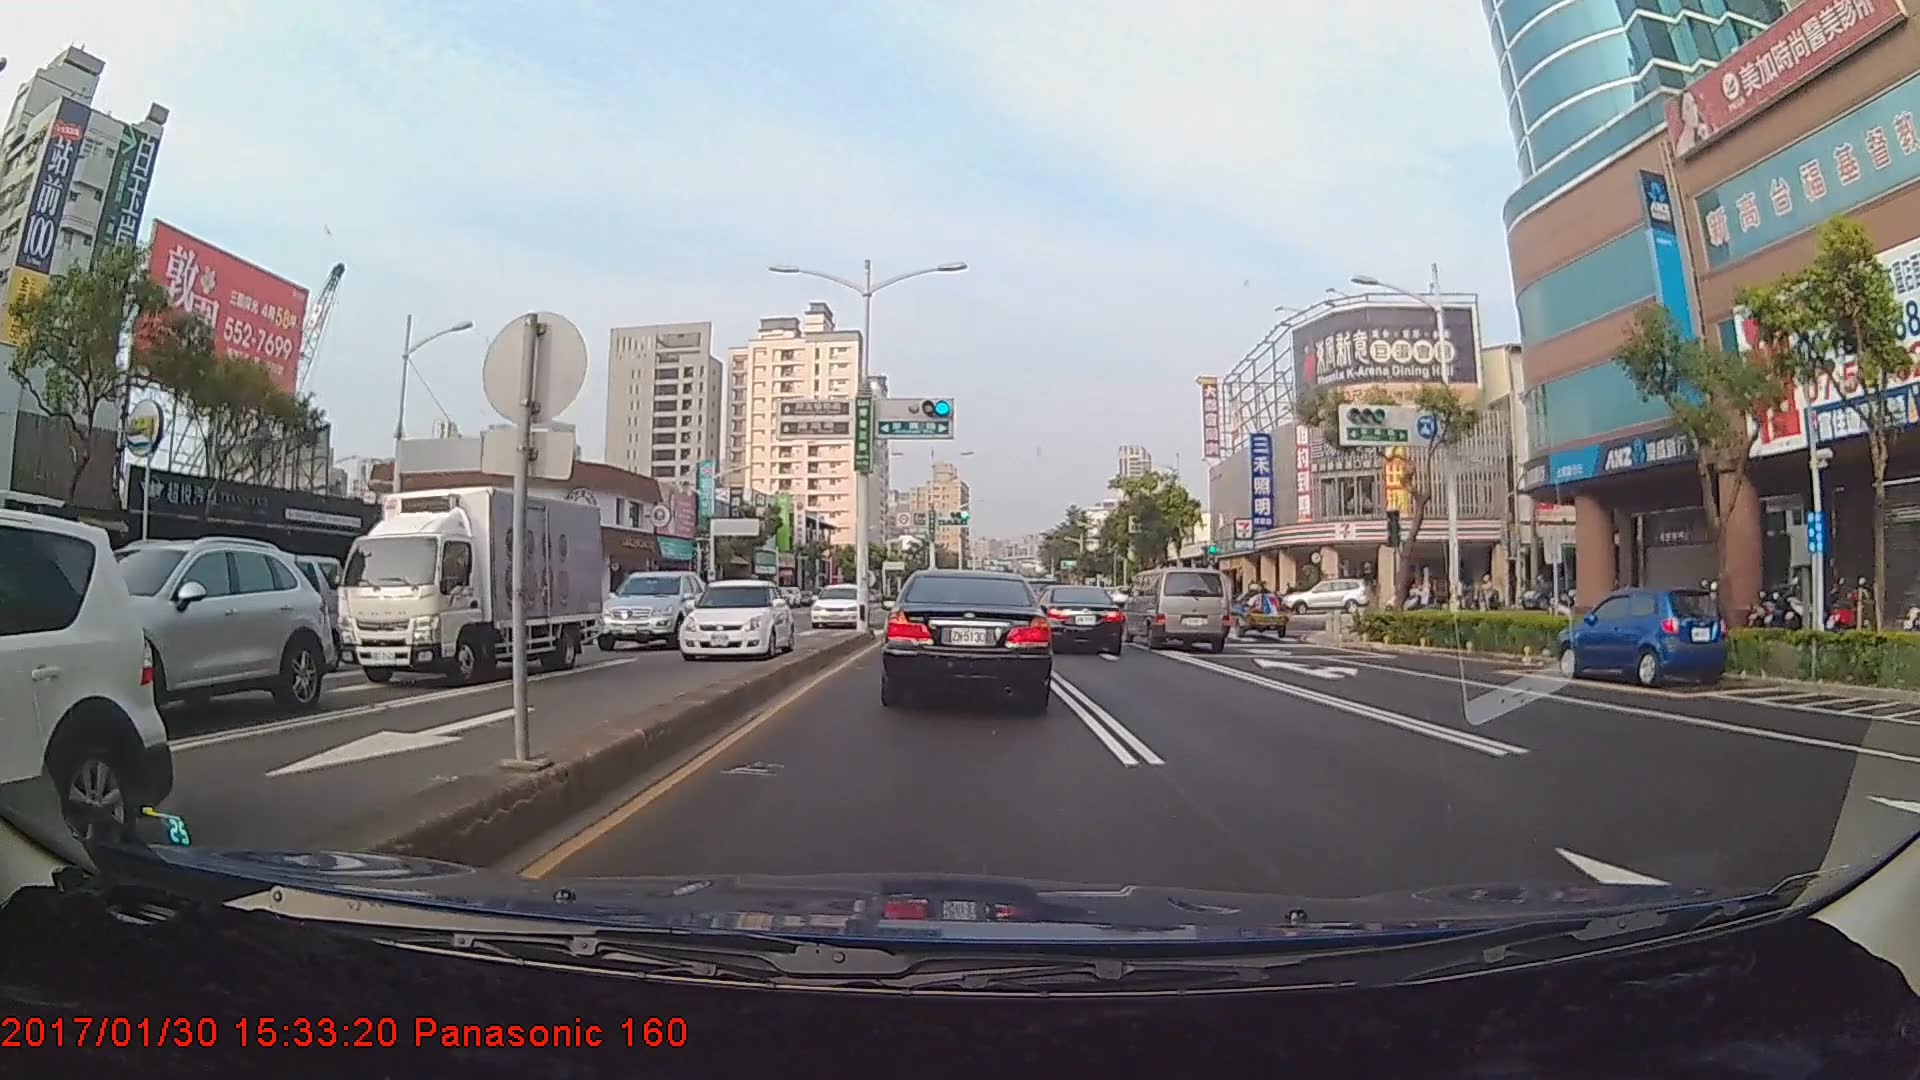vehicle: (0, 506, 165, 857), (334, 484, 609, 688), (47, 537, 330, 727), (882, 564, 1054, 709), (196, 553, 347, 675), (1563, 584, 1722, 688), (593, 566, 711, 650), (676, 579, 794, 661), (1124, 566, 1232, 651), (1033, 585, 1124, 654), (1280, 580, 1370, 615), (807, 583, 866, 630)
